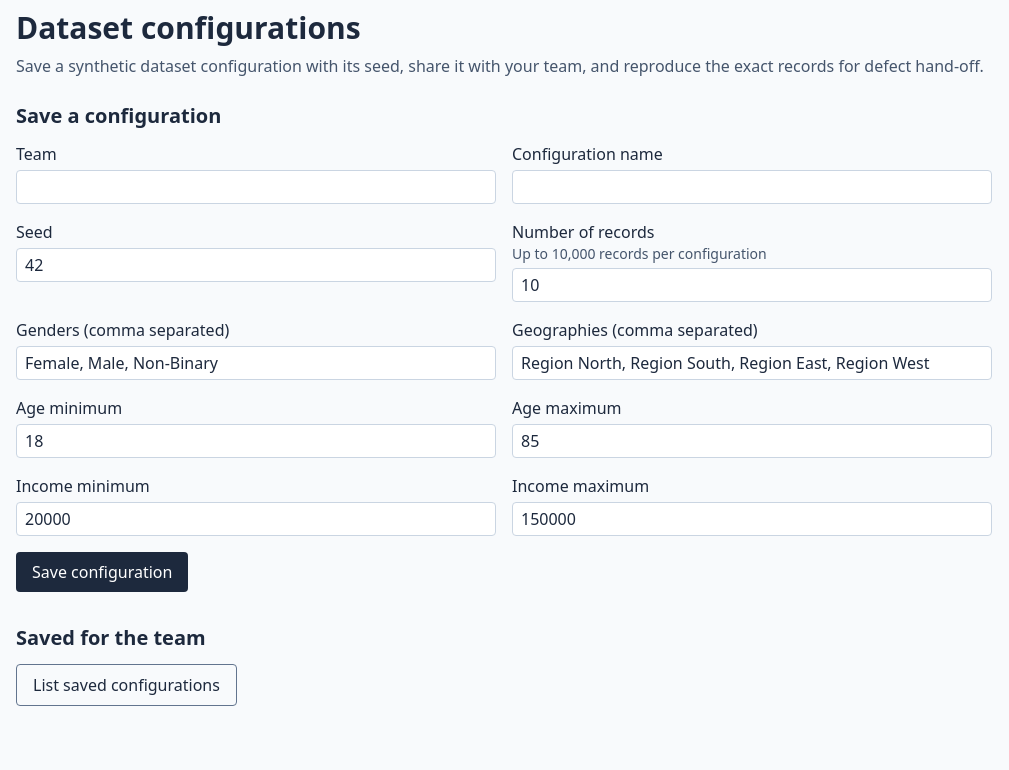
Test: DatasetConfigurationsPage › announces an invalid configuration instead of sending it
Type "atlas" into the field labelled "Team" at (256, 187), box [16,170,496,204]
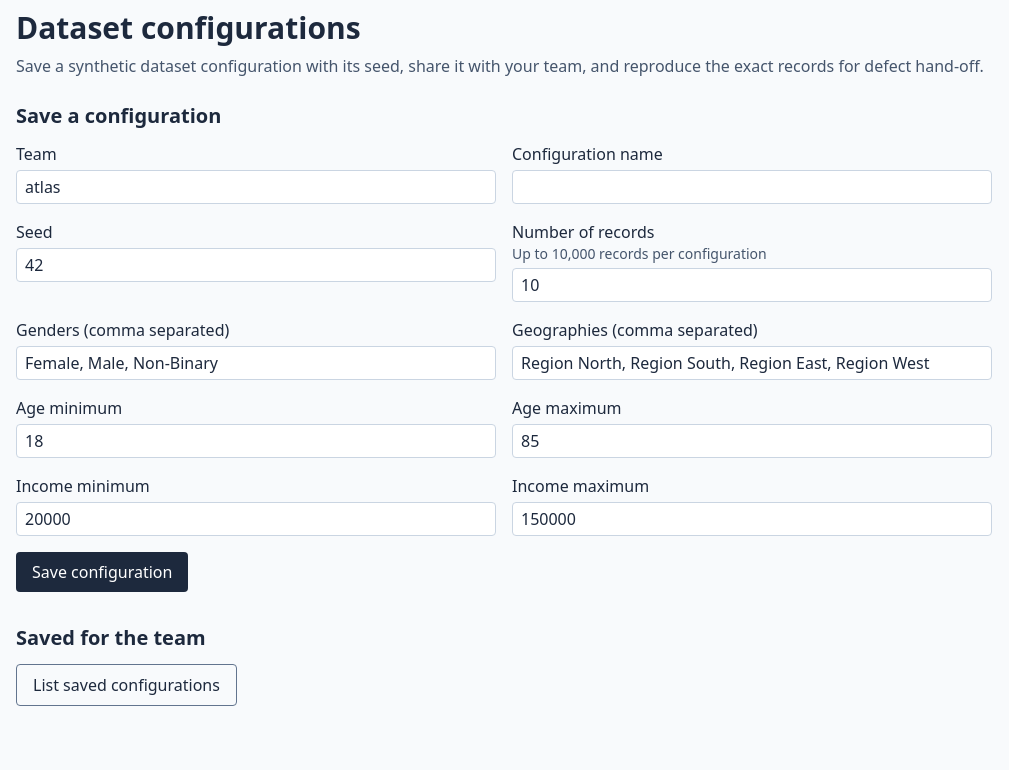
Type "atlas-baseline" into the field labelled "Configuration name" at (752, 187), box [512,170,992,204]
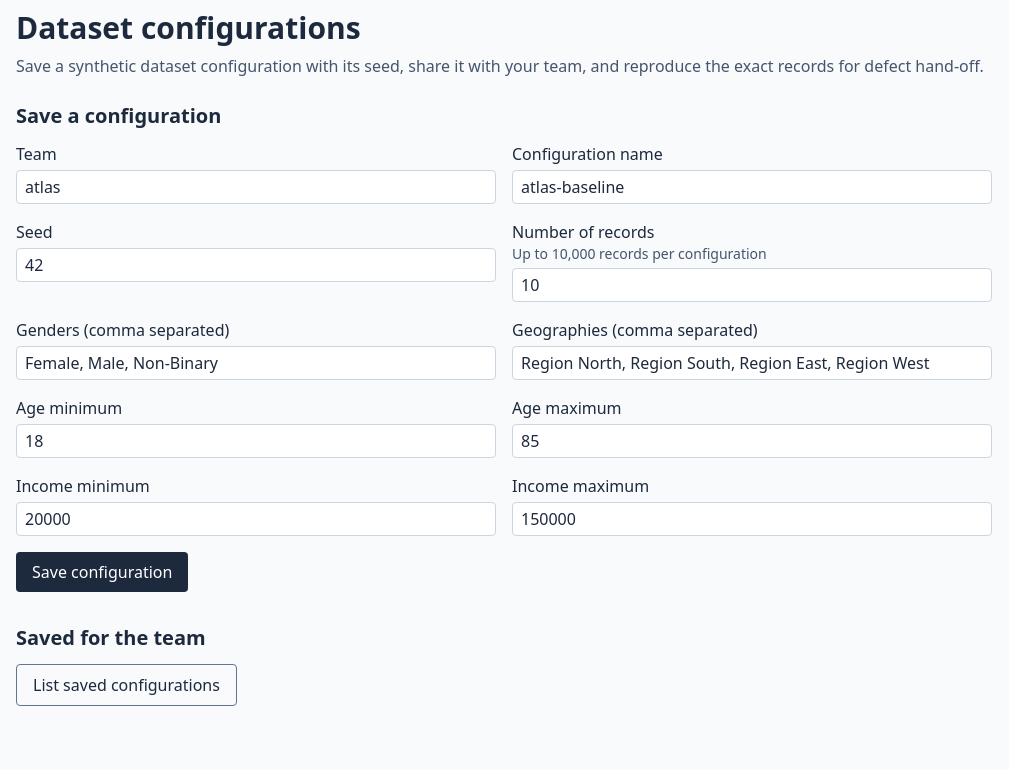
Clear the field labelled "Genders (comma separated)" at (256, 363), box [16,346,496,380]
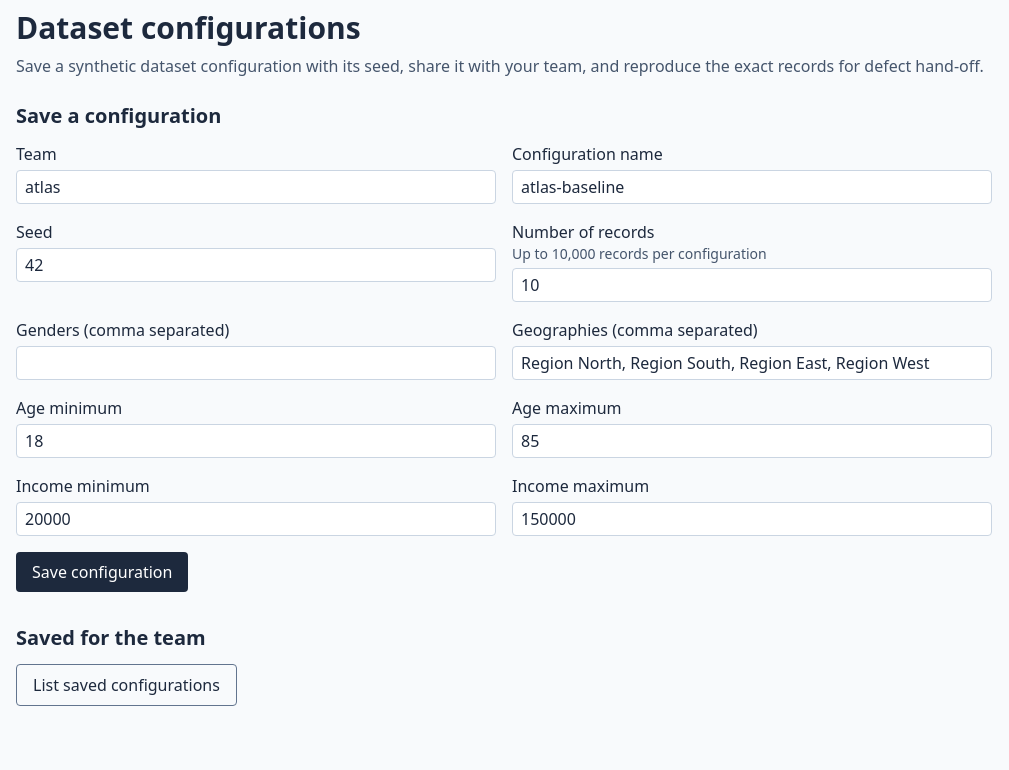
Click the button "Save configuration" at (102, 572), box [16,552,188,592]
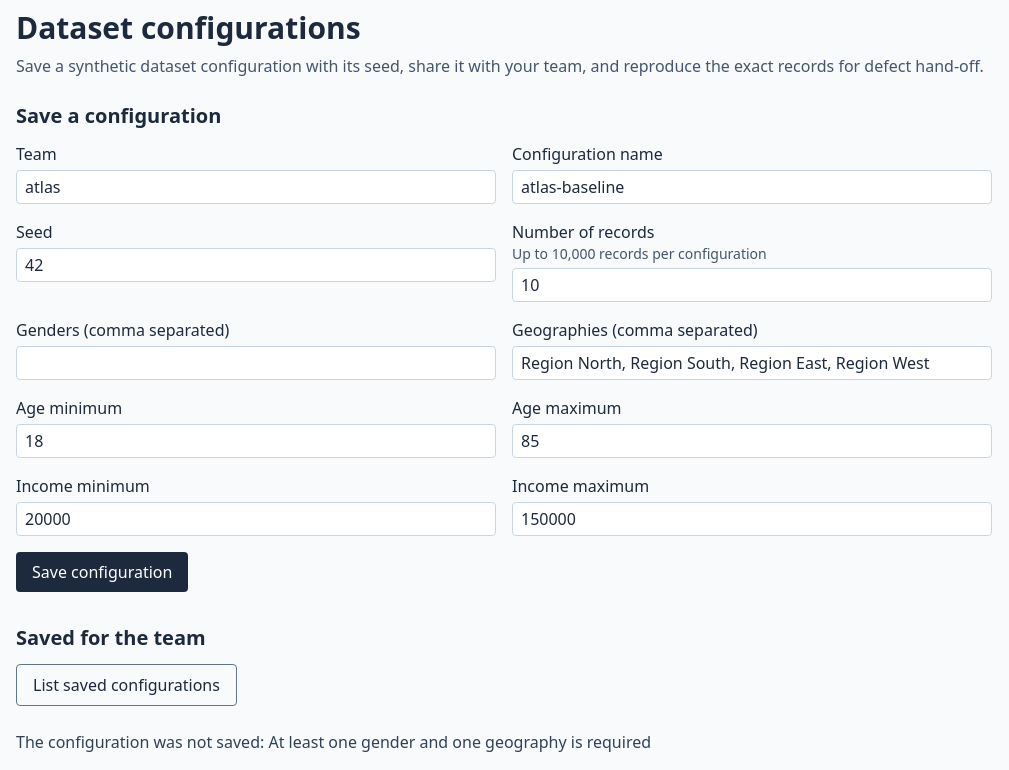
Expected: the text "At least one gender" is shown, [16,731,651,753]
